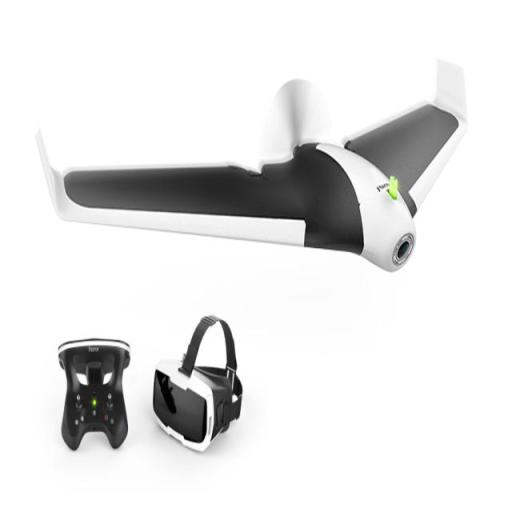uav: (24, 78, 476, 292)
